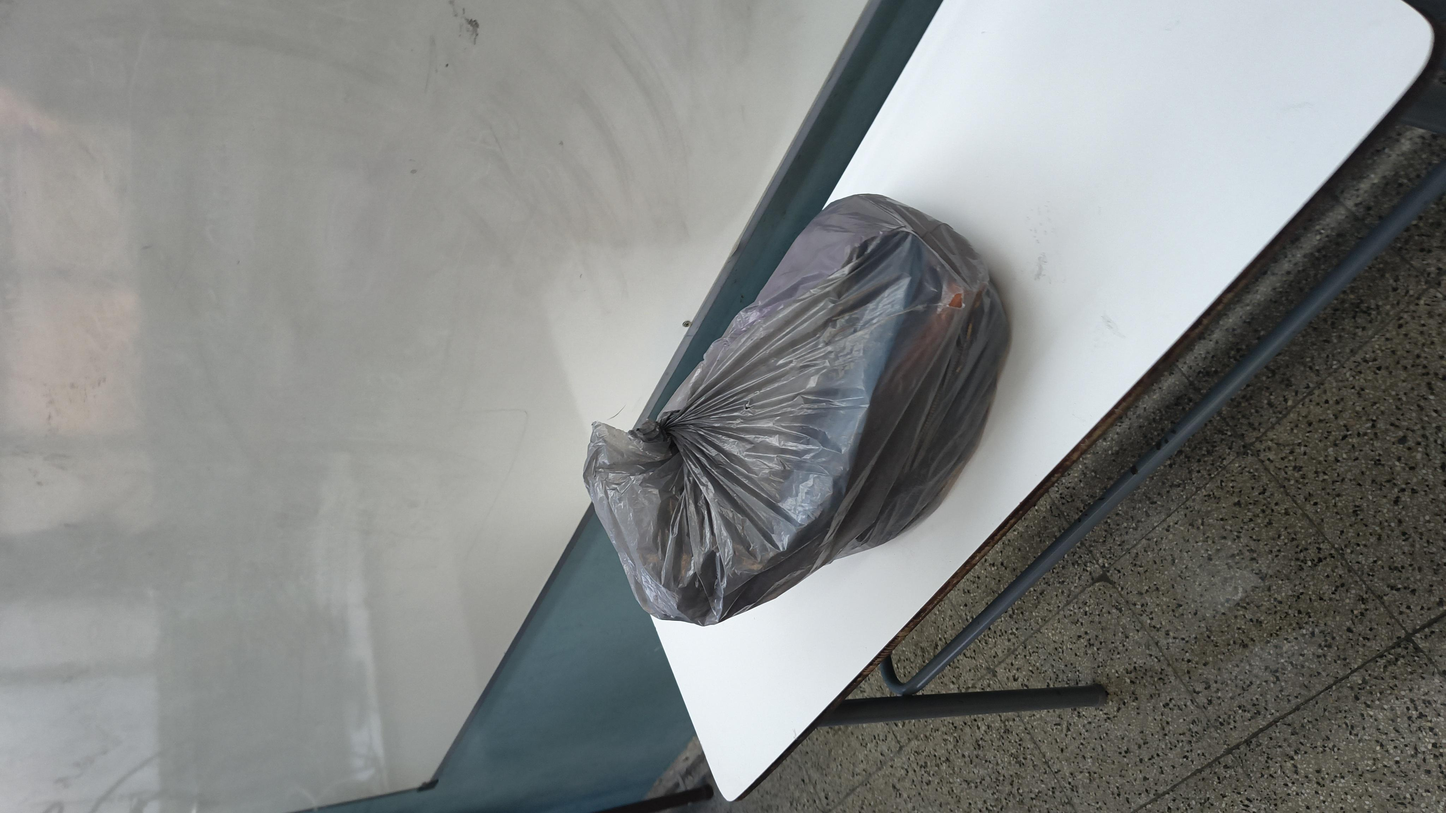Garbage: (276, 292, 1236, 599)
